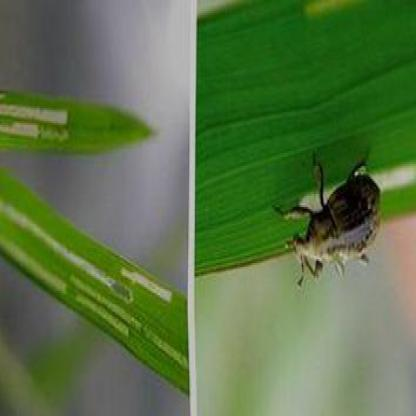rice-bug: (288, 156, 384, 282)
